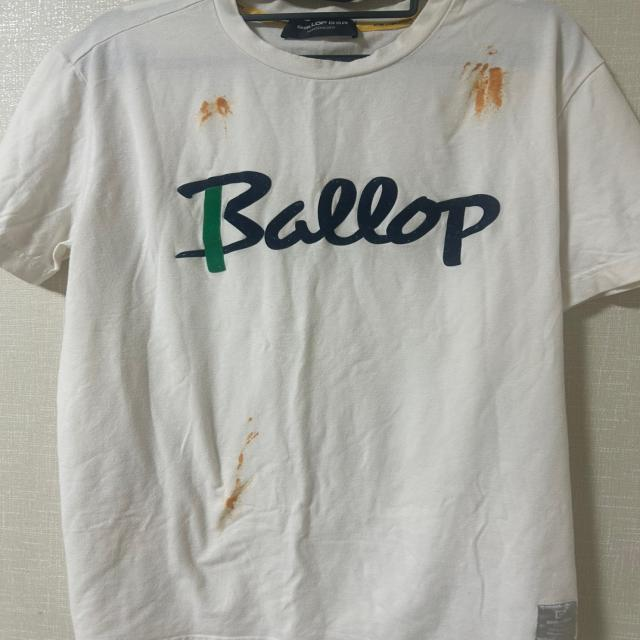stain: (462, 67, 512, 112), (238, 416, 260, 468), (224, 478, 253, 517), (198, 94, 236, 121), (465, 61, 487, 75), (485, 42, 502, 58)
